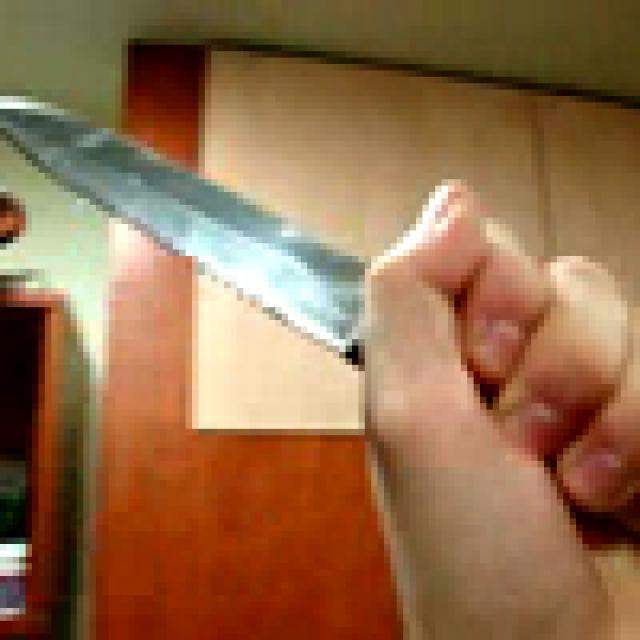Knife: (0, 89, 640, 556)
